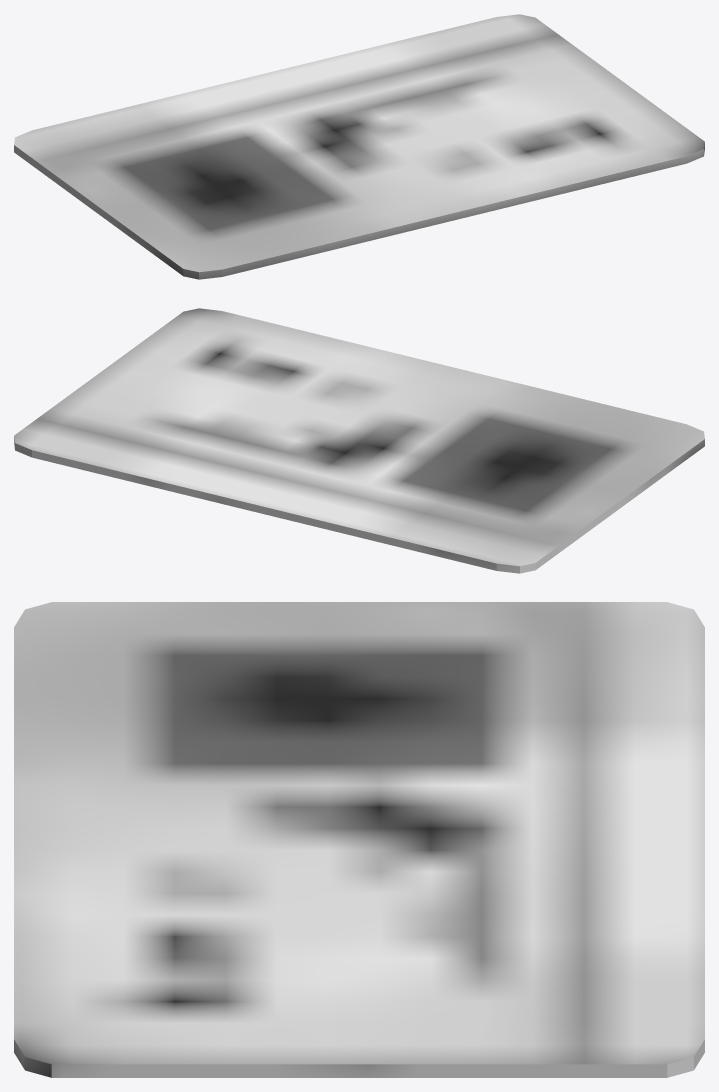
File: Card_Asset.fbx
The picture shows the model from 3 angles, top to bottom: view 1: azimuth 30°, elevation 25°; view 2: azimuth 150°, elevation 25°; view 3: azimuth 270°, elevation 25°; orthographic projection. The views are drawn at different scales.
Visible parts, largest first — view 1: KeyCard; view 2: KeyCard; view 3: KeyCard.
Boxes of the visible parts, x1=… form: KeyCard: x1=14, y1=14, x2=704, y2=279; KeyCard: x1=14, y1=308, x2=704, y2=573; KeyCard: x1=14, y1=602, x2=704, y2=1077.
Size of the model in its own units: 8.55 by 5.4 by 0.1163.
1 material, 1 textured.
